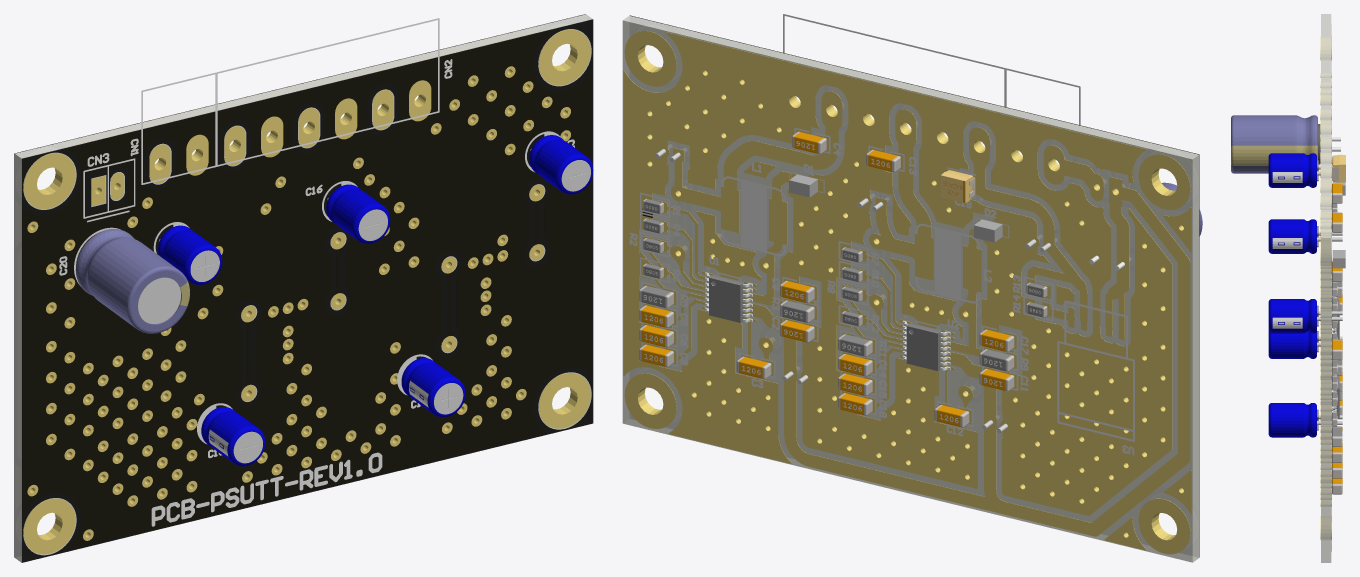
Rendered from Power Supply for Tele-Terminal.glb.
3 views of the same model, side by side, from view 1: azimuth 30°, elevation 25°; view 2: azimuth 150°, elevation 25°; view 3: azimuth 270°, elevation 25° (orthographic). The views are drawn at different scales.
Visible parts, largest first — view 1: Solder_Top, GND, Core, Pad.39, Top, ComponentBody.7, CN2, ComponentBody.28, ComponentBody.18, ComponentBody.3, ComponentBody.13, ComponentBody.23 (+9 smaller); view 2: GND, Core, NetC1_1, Bottom, Pad.39, VOUT, VOUT1, CN2, NetC19_1, NetC3_2, NetC12_2, ComponentBody.76 (+8 smaller); view 3: Core, ComponentBody.7, GND, ComponentBody.13, ComponentBody.18, ComponentBody.3, ComponentBody.28, ComponentBody.23, ComponentBody.8, Pad.39, CN2, ComponentBody.16 (+5 smaller).
Boxes of the visible parts, <box> form: Solder_Top: <box>21,19,593,562</box>; GND: <box>27,66,570,540</box>; Core: <box>15,14,592,562</box>; Pad.39: <box>23,29,590,554</box>; Top: <box>59,18,574,526</box>; ComponentBody.7: <box>75,229,187,333</box>; CN2: <box>224,81,430,165</box>; ComponentBody.28: <box>326,184,390,243</box>; ComponentBody.18: <box>529,135,593,194</box>; ComponentBody.3: <box>158,225,222,284</box>; ComponentBody.13: <box>401,358,465,417</box>; ComponentBody.23: <box>201,407,265,466</box>; GND: <box>623,32,1191,550</box>; Core: <box>622,15,1199,562</box>; NetC1_1: <box>744,185,1190,536</box>; Bottom: <box>629,127,1134,455</box>; Pad.39: <box>624,31,1190,554</box>; VOUT: <box>664,103,838,289</box>; VOUT1: <box>862,121,931,337</box>; CN2: <box>784,82,991,166</box>; NetC19_1: <box>971,148,1087,324</box>; NetC3_2: <box>746,171,796,365</box>; NetC12_2: <box>943,228,981,407</box>; ComponentBody.76: <box>906,323,942,370</box>; Core: <box>1321,14,1331,562</box>; ComponentBody.7: <box>1231,115,1317,173</box>; GND: <box>1320,33,1331,523</box>; ComponentBody.13: <box>1268,403,1316,437</box>; ComponentBody.18: <box>1268,299,1316,333</box>; ComponentBody.3: <box>1268,153,1316,187</box>; ComponentBody.28: <box>1268,219,1316,253</box>; ComponentBody.23: <box>1268,331,1316,358</box>; ComponentBody.8: <box>1231,145,1317,165</box>; Pad.39: <box>1320,25,1331,551</box>; CN2: <box>1320,124,1331,206</box>; ComponentBody.16: <box>1272,317,1302,328</box>.
Bounding box in the file's own units: 7.72 × 5.72 × 1.67.
